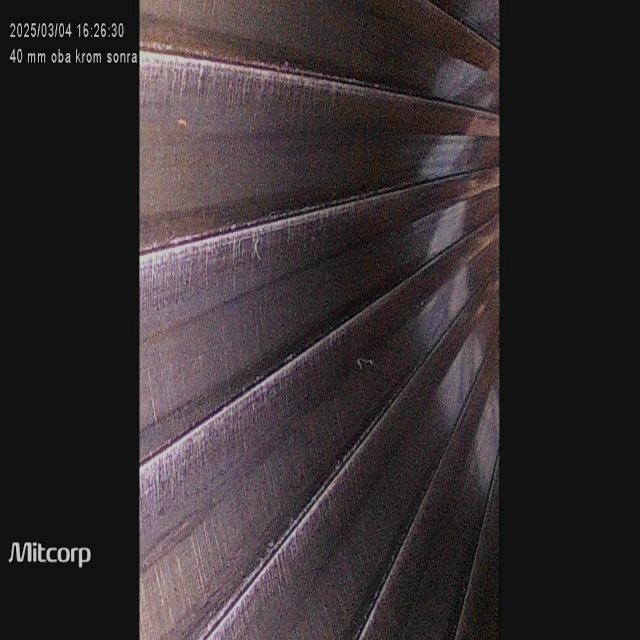hata_2.3: (192, 342, 436, 640), (138, 283, 386, 505), (139, 165, 413, 290), (144, 21, 404, 118)
